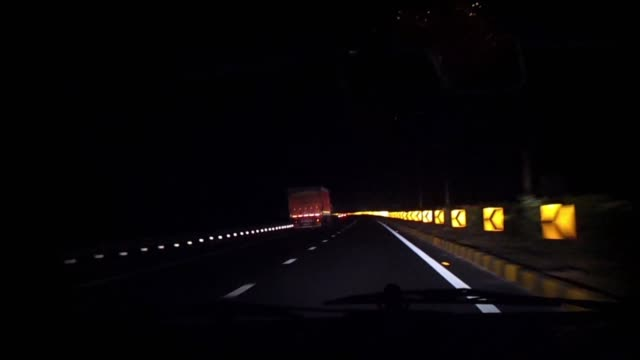left turn: (541, 203, 575, 239), (484, 207, 503, 231), (450, 210, 466, 227), (434, 210, 444, 224), (423, 211, 432, 222), (414, 210, 421, 221), (409, 211, 415, 220), (404, 212, 409, 220)
truck: (289, 187, 330, 235)
